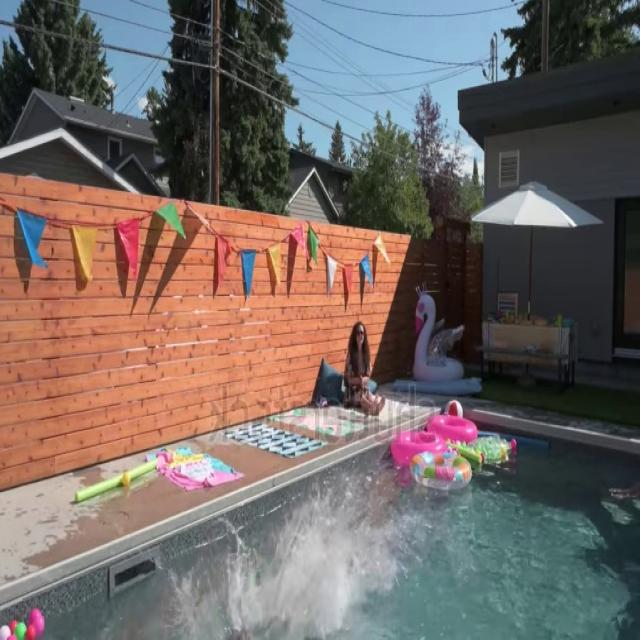adult: (344, 321, 386, 419)
